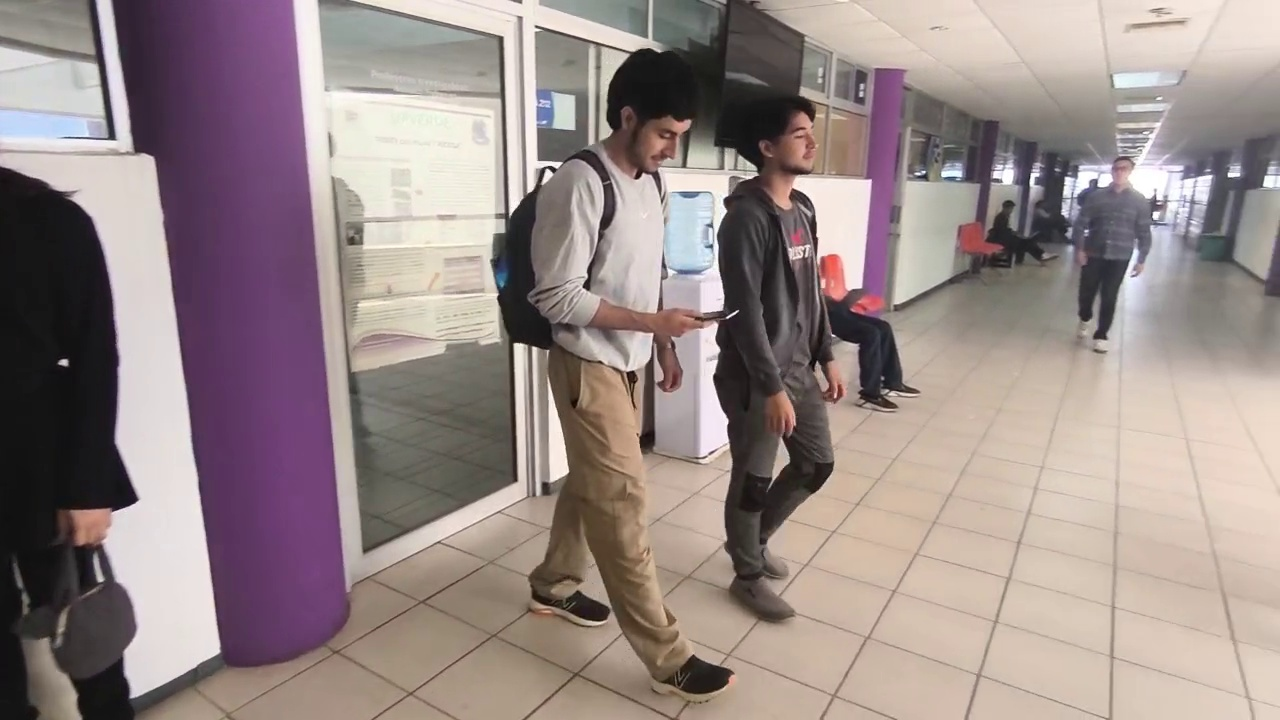mixto2: (694, 305, 743, 326)
